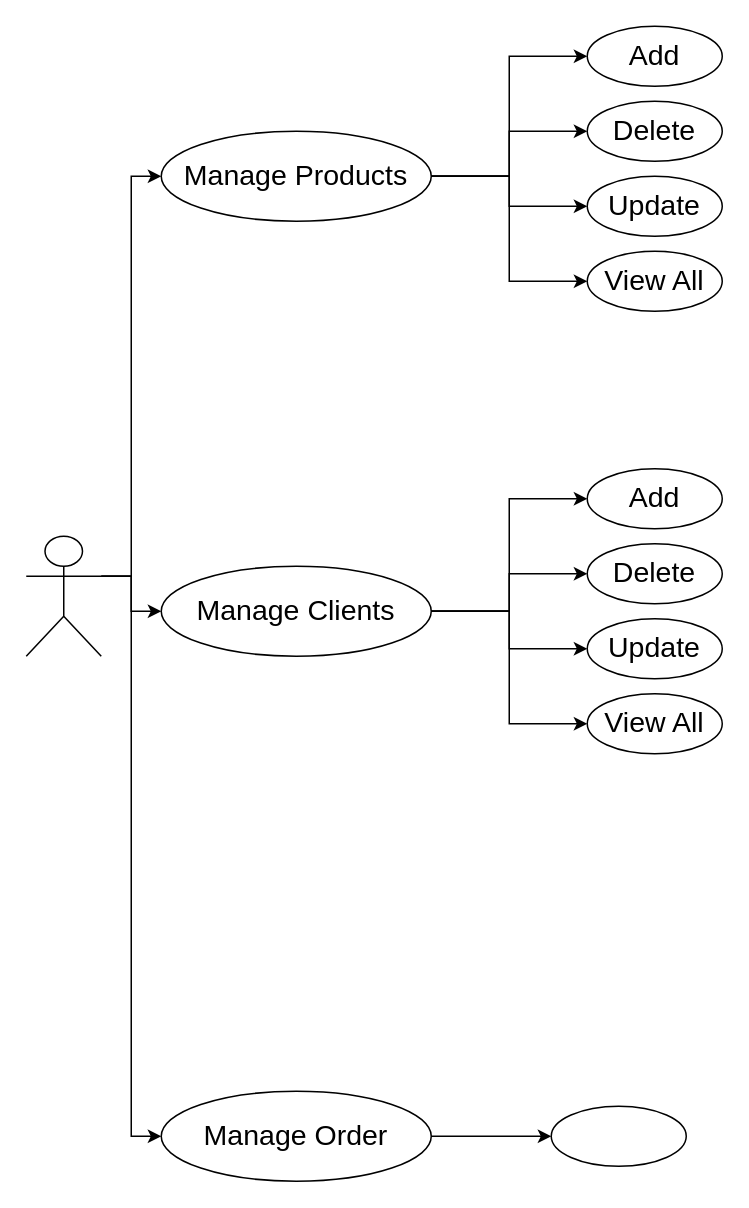
Some shapes in this 749 by 1208 pixel diagram are drawn without their labels. Here are the shapes that lost their labels. From the top down, the centre of each, then its label:
(63,595): User
(618,1135): Create
